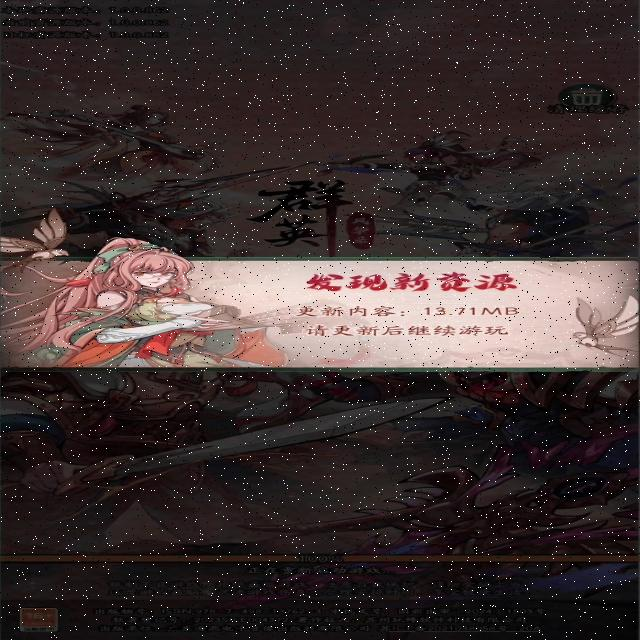hint-guide: (296, 268, 526, 296)
